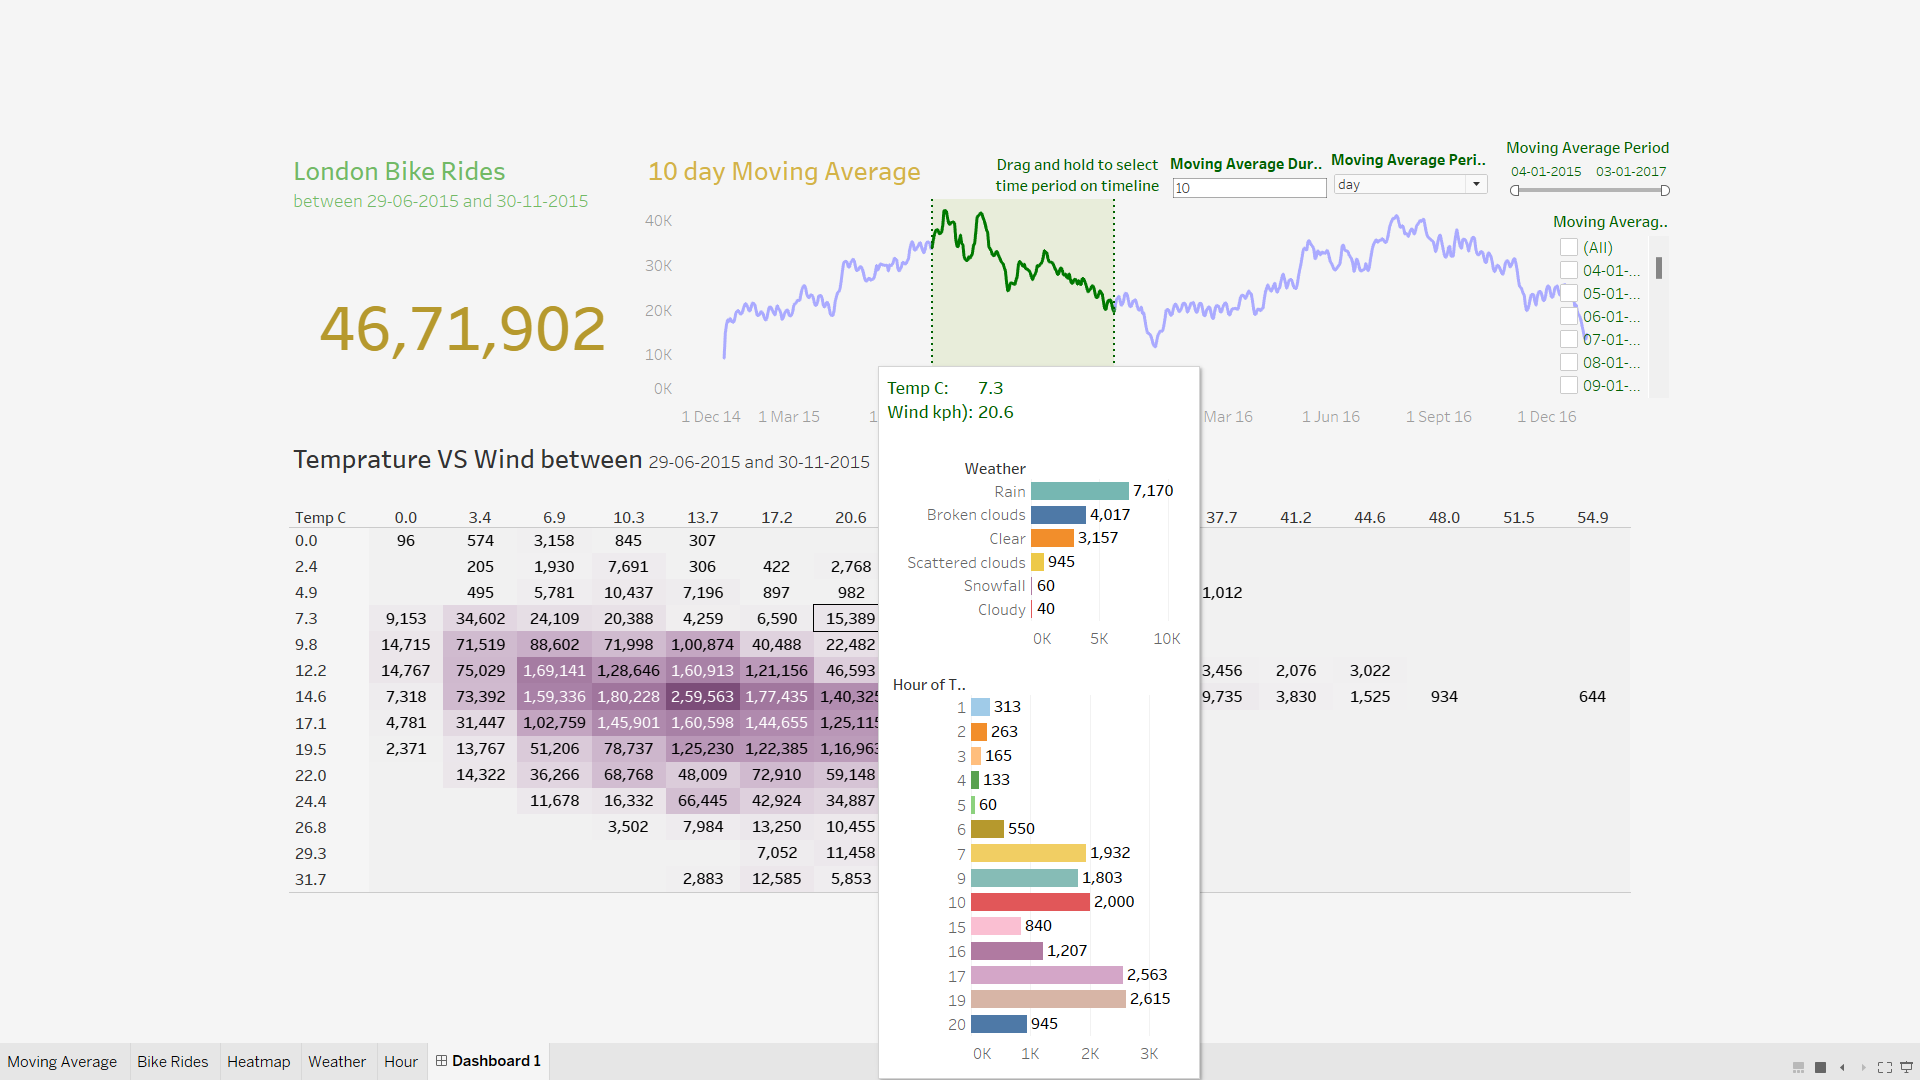

This screenshot's page, from the dashboard's own definition file:
{"tool":"tableau","page":{"name":"Dashboard 1","canvas":[1366,768],"ordinal":0},"visuals":[{"type":"worksheet","title":"Bike Rides","mark":"Automatic","box":[8,8,355,288]},{"type":"worksheet","title":"Moving Average","mark":"Automatic","rows":["Calculation1"],"cols":["Calculation_184929103509639168"],"box":[363,8,995,288]},{"type":"parameter","param":"[Parameters].[Parameter 1]","box":[1054,12,160,48]},{"type":"parameter","param":"[Parameters].[Parameter 2]","box":[893,16,160,48]},{"type":"text","box":[715,17,171,42]},{"type":"worksheet","title":"Heatmap","mark":"Square","rows":["temp real C (bin)"],"cols":["Wind Speed Kph (bin)"],"box":[8,296,1350,464]}]}

Visuals, with their boxes on the page's 1366x768 design canvas (x1, y1, x2, y2). These are canvas units, not pixel positions in the 1920x1080 screenshot, which may show the page scaled, cropped or inside an application window:
"Bike Rides" worksheet: <bbox>8, 8, 363, 296</bbox>
"Moving Average" worksheet: <bbox>363, 8, 1358, 296</bbox>
parameter: <bbox>1054, 12, 1214, 60</bbox>
parameter: <bbox>893, 16, 1053, 64</bbox>
text: <bbox>715, 17, 886, 59</bbox>
"Heatmap" worksheet (Square marks): <bbox>8, 296, 1358, 760</bbox>
